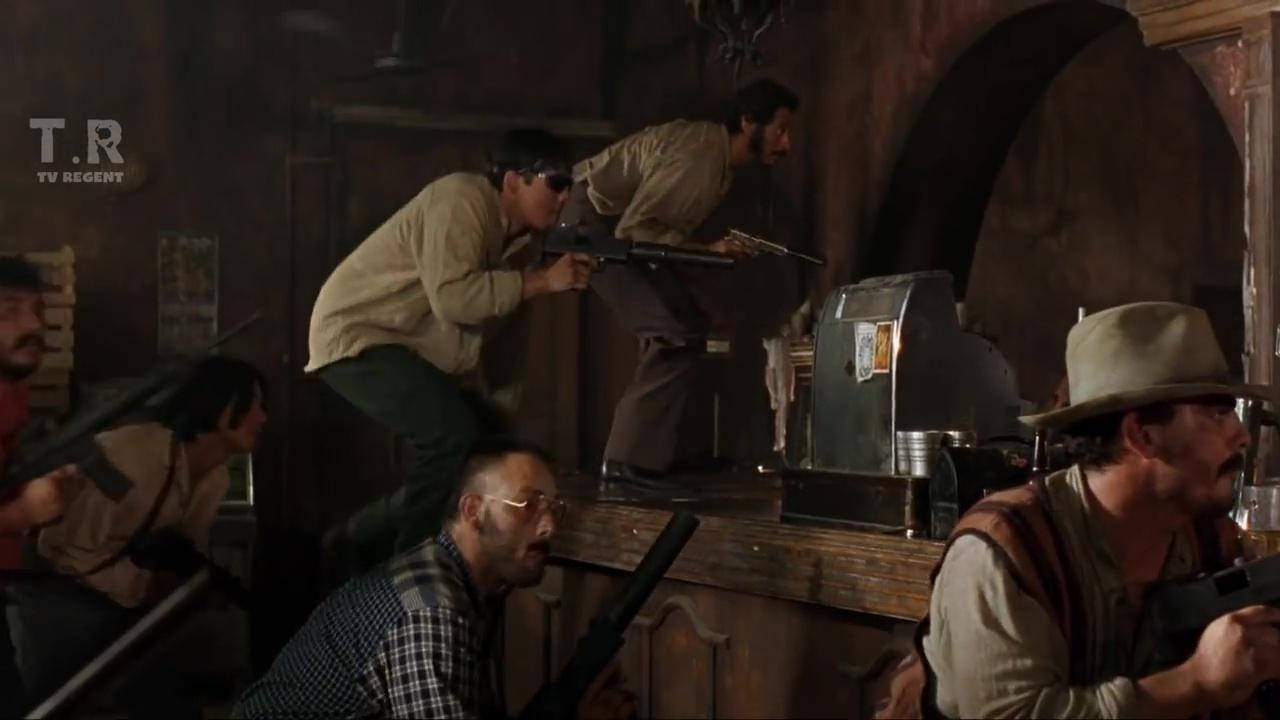Gun: (518, 488, 747, 720), (13, 309, 269, 509), (1109, 553, 1280, 627), (548, 230, 734, 283), (732, 228, 822, 269)
